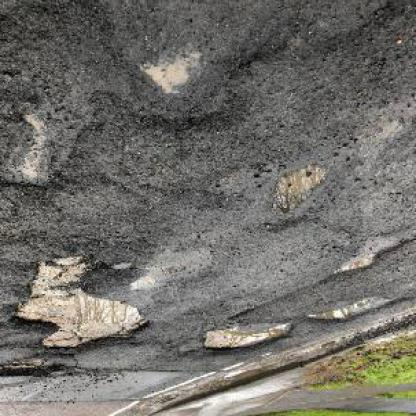pothole: (9, 257, 156, 358), (4, 112, 61, 199), (202, 323, 294, 356), (272, 165, 329, 216), (307, 298, 394, 328), (1, 363, 67, 384)
